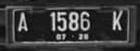1: (47, 10, 56, 32)
5: (56, 11, 68, 32)
6: (80, 10, 91, 32)
8: (68, 12, 80, 32)
A: (16, 11, 30, 33)
K: (110, 9, 125, 32)
